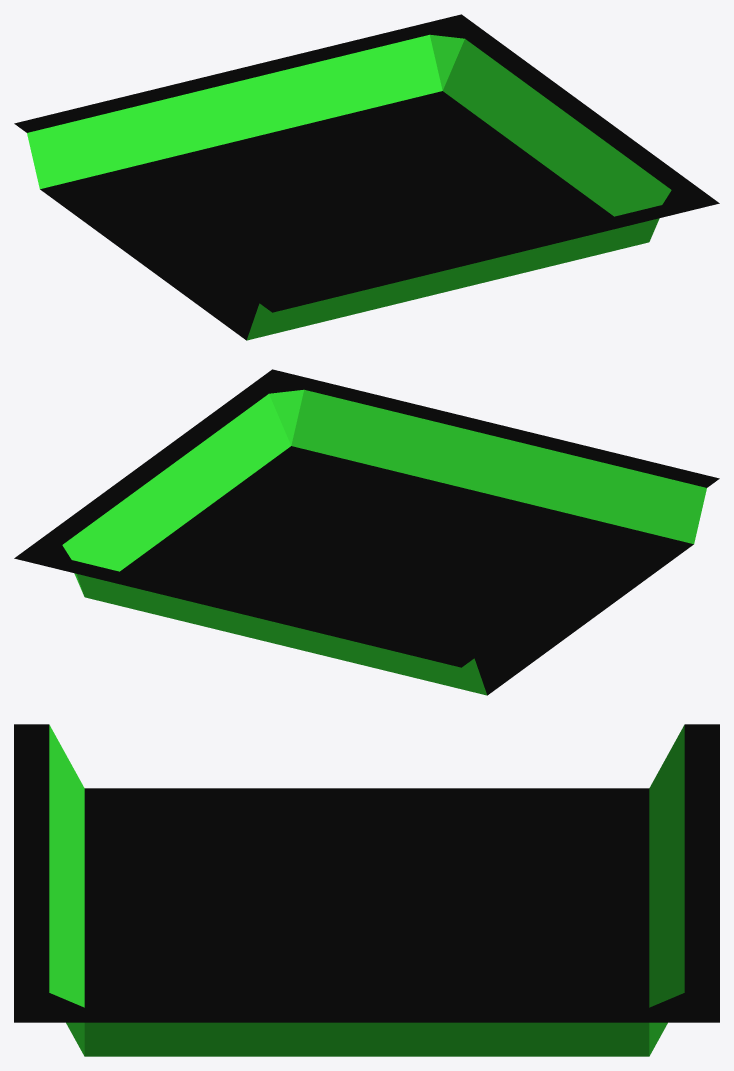
File: end.fbx
The picture shows the model from 3 angles, top to bottom: view 1: azimuth 30°, elevation 25°; view 2: azimuth 150°, elevation 25°; view 3: azimuth 270°, elevation 25°; orthographic projection. The views are drawn at different scales.
Parts seen in each view (by area): view 1: Plane; view 2: Plane; view 3: Plane.
Part boxes in pixels (x1,y1,x2,y2): Plane: [14, 14, 719, 340]; Plane: [14, 369, 719, 695]; Plane: [14, 724, 719, 1056].
Size of the model in its own units: 1000 by 100 by 1000.
1 material, 1 textured.
